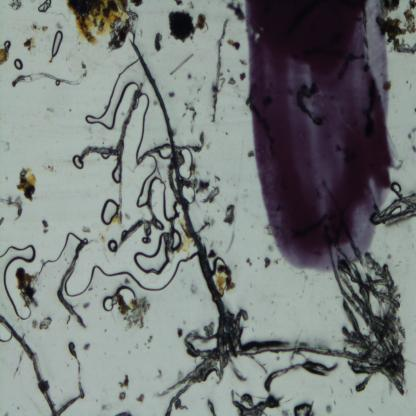Air bubble: (85, 59, 138, 126), (74, 262, 163, 298), (0, 242, 39, 322), (37, 228, 77, 275), (132, 233, 168, 275), (176, 146, 193, 180), (101, 198, 119, 226), (116, 285, 136, 307), (50, 30, 64, 58), (169, 229, 182, 250), (182, 185, 196, 204), (71, 152, 84, 170), (101, 296, 115, 312), (112, 164, 122, 186), (37, 1, 52, 15), (106, 238, 118, 253), (13, 58, 23, 72), (391, 182, 402, 194), (3, 41, 11, 50)
Background material: (0, 316, 87, 415), (64, 1, 136, 48), (375, 0, 416, 57), (14, 265, 37, 307), (168, 10, 195, 44), (14, 164, 38, 202), (129, 295, 151, 333), (168, 51, 194, 79), (196, 177, 220, 205), (226, 0, 246, 21), (292, 399, 314, 416), (223, 200, 235, 228), (196, 12, 209, 35), (23, 35, 37, 56), (40, 160, 57, 175), (38, 314, 52, 332), (30, 20, 48, 34), (226, 37, 242, 52), (118, 373, 132, 390), (154, 30, 163, 53), (0, 47, 10, 65), (8, 0, 22, 12), (206, 249, 220, 260), (406, 126, 416, 140), (0, 139, 10, 153), (382, 79, 392, 92), (113, 410, 134, 416), (135, 392, 145, 404), (263, 256, 272, 269), (129, 0, 143, 8), (156, 367, 164, 381), (82, 224, 92, 235), (324, 403, 334, 414), (205, 137, 214, 149), (42, 218, 48, 235), (119, 390, 128, 401), (176, 328, 184, 340), (190, 284, 198, 296), (239, 58, 248, 68), (228, 76, 237, 86), (239, 71, 247, 82), (83, 341, 91, 352), (31, 318, 39, 329), (82, 300, 91, 309), (80, 61, 88, 70), (174, 0, 184, 7), (187, 1, 194, 11), (168, 91, 176, 99), (246, 258, 253, 267), (247, 150, 254, 158), (411, 144, 416, 153), (146, 335, 152, 342)
Cellulose filter fibre: (158, 310, 350, 416), (327, 246, 406, 398), (79, 85, 143, 162), (57, 238, 89, 330), (118, 187, 157, 251), (264, 363, 339, 394), (211, 19, 231, 121), (371, 190, 416, 230), (180, 73, 208, 131), (12, 72, 88, 86), (132, 143, 171, 170), (232, 396, 282, 415), (176, 131, 204, 152), (0, 195, 23, 220), (162, 218, 176, 257), (117, 170, 124, 226), (205, 398, 221, 416)
Microfibre: (128, 38, 230, 332)
Pen: (245, 0, 394, 271)
